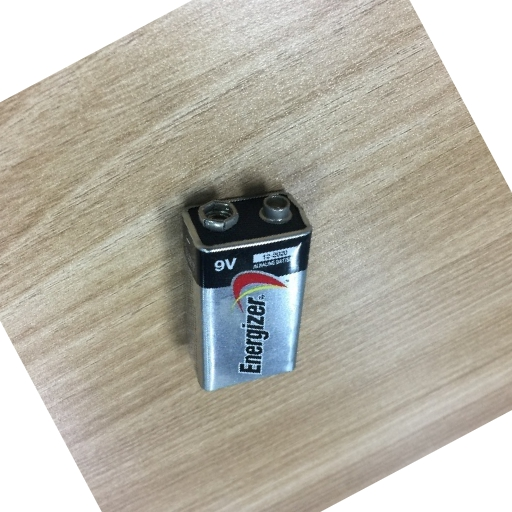Battery_3: (177, 175, 317, 397)
